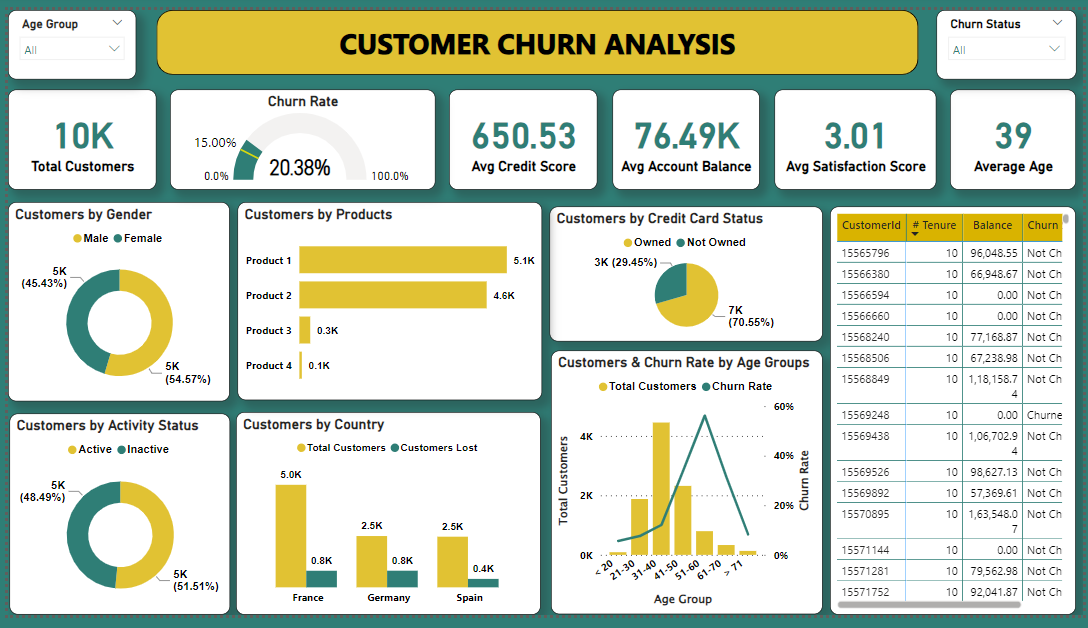

This screenshot's page, from the dashboard's own definition file:
{"tool":"powerbi","page":{"name":"Page 1","canvas":[1280,720],"ordinal":0},"visuals":[{"type":"card","fields":{"Values":["Customer Data.Total Customers"]},"box":[0,94.6,176.8,119.6],"z":0},{"type":"card","fields":{"Values":["Avg(Customer Data.Age)"]},"box":[1121.4,94.6,150,119.6],"z":1000},{"type":"shape","box":[177.2,0,907,77.2],"z":2000},{"type":"donutChart","title":"Customers by Gender","fields":{"Category":["Customer Data.Gender"],"Y":["Customer Data.Total Customers"]},"box":[0,228.6,264.3,237.5],"z":3000},{"type":"donutChart","title":"Customers by Activity Status","fields":{"Y":["Customer Data.Total Customers"],"Category":["Customer Data.Active_Member"]},"box":[1.8,480.7,262.5,239.3],"z":4000},{"type":"pieChart","title":"Customers by Credit Card Status","fields":{"Y":["Customer Data.Total Customers"],"Category":["Customer Data.Credit_Card"]},"box":[644.6,233.9,325,160.7],"z":5000},{"type":"card","fields":{"Values":["Avg(Customer Data.Satisfaction Score)"]},"box":[912.5,94.6,192.9,119.6],"z":6000},{"type":"card","fields":{"Values":["Avg(Customer Data.CreditScore)"]},"box":[525,94.6,176.8,119.6],"z":7000},{"type":"clusteredColumnChart","title":"Customers by Country","fields":{"Category":["Customer Data.Country"],"Y":["Customer Data.Total Customers","Customer Data.Customers Lost"]},"box":[271.4,478.6,362.5,241.1],"z":8000},{"type":"clusteredBarChart","title":"Customers by Products","fields":{"Category":["Customer Data.Products"],"Y":["Customer Data.Total Customers"]},"box":[273.2,228.6,362.5,235.7],"z":9000},{"type":"lineClusteredColumnComboChart","title":"Customers & Churn Rate by Age Groups","fields":{"Y":["Customer Data.Total Customers"],"Y2":["Customer Data.Churn Rate"],"Category":["Age Group.Age Group"]},"box":[646.4,405.4,323.2,314.3],"z":10000},{"type":"card","fields":{"Values":["Avg(Customer Data.Balance)"]},"box":[719.6,94.6,175,119.6],"z":11000},{"type":"slicer","fields":{"Values":["Age Group.Age Group"]},"box":[0,0,152.6,82.5],"z":12000},{"type":"slicer","fields":{"Values":["Customer Data.Churn"]},"box":[1105.3,0,166.7,82.5],"z":13000},{"type":"gauge","title":"Churn Rate","fields":{"Y":["Customer Data.Churn Rate"],"MinValue":["Min(Customer Data.Min Churn Rate)"],"MaxValue":["Max(Customer Data.Max Churn Rate)"],"TargetValue":["Max(Customer Data.Target Churn Rate)"]},"box":[192.9,94.6,316.1,119.6],"z":14000},{"type":"pivotTable","title":"Customers & Churn Rate by Age Groups","fields":{"Values":["Sum(Customer Data.Tenure)","Sum(Customer Data.Balance)","Min(Customer Data.Churn)"],"Rows":["Customer Data.CustomerId"]},"box":[978.9,233.3,293,486],"z":15000}]}

Visuals, with their boxes in screenshot pixels (x1, y1, x2, y2), scaled from the page's 1280x720 canvas onto the 1088x628 screenshot:
card - Customer Data.Total Customers: 0 83 150 187
card - Avg(Customer Data.Age): 953 83 1081 187
shape: 151 0 922 67
"Customers by Gender" donutChart: 0 199 225 407
"Customers by Activity Status" donutChart: 2 419 225 627
"Customers by Credit Card Status" pieChart: 548 204 824 344
card - Avg(Customer Data.Satisfaction Score): 776 83 940 187
card - Avg(Customer Data.CreditScore): 446 83 597 187
"Customers by Country" clusteredColumnChart: 231 417 539 627
"Customers by Products" clusteredBarChart: 232 199 540 405
"Customers & Churn Rate by Age Groups" lineClusteredColumnComboChart: 549 354 824 627
card - Avg(Customer Data.Balance): 612 83 760 187
slicer - Age Group.Age Group: 0 0 130 72
slicer - Customer Data.Churn: 940 0 1081 72
"Churn Rate" gauge: 164 83 433 187
"Customers & Churn Rate by Age Groups" pivotTable: 832 203 1081 627
